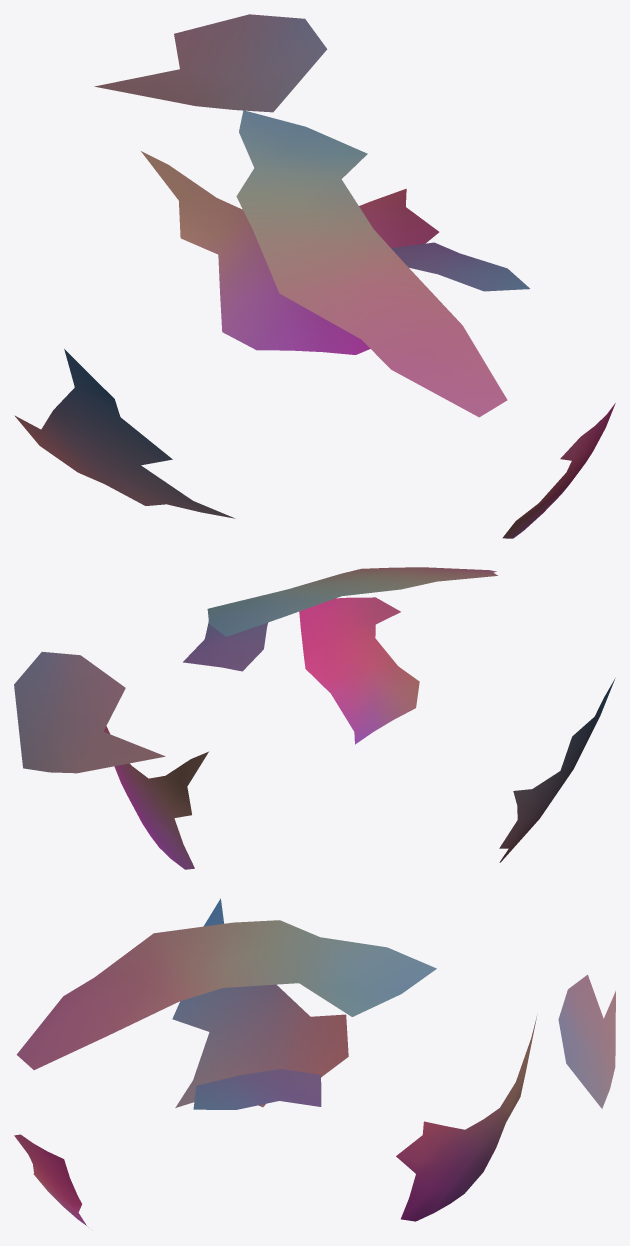
The model's file is space-nebulae-nebula_v9.glb.
3 views of the same model, one above another, from view 1: azimuth 30°, elevation 25°; view 2: azimuth 150°, elevation 25°; view 3: azimuth 270°, elevation 25° (orthographic). The views are drawn at different scales.
Parts seen in each view (by area): view 1: Nebula_v9; view 2: Nebula_v9; view 3: Nebula_v9.
Boxes of the visible parts, x1,y1,x2,y2 form: Nebula_v9: (14, 14, 615, 538); Nebula_v9: (14, 567, 615, 869); Nebula_v9: (14, 898, 615, 1227).
Size of the model in its own units: 0.3796 by 0.2309 by 0.5.
